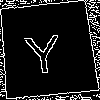Y: (22, 24, 63, 75)
